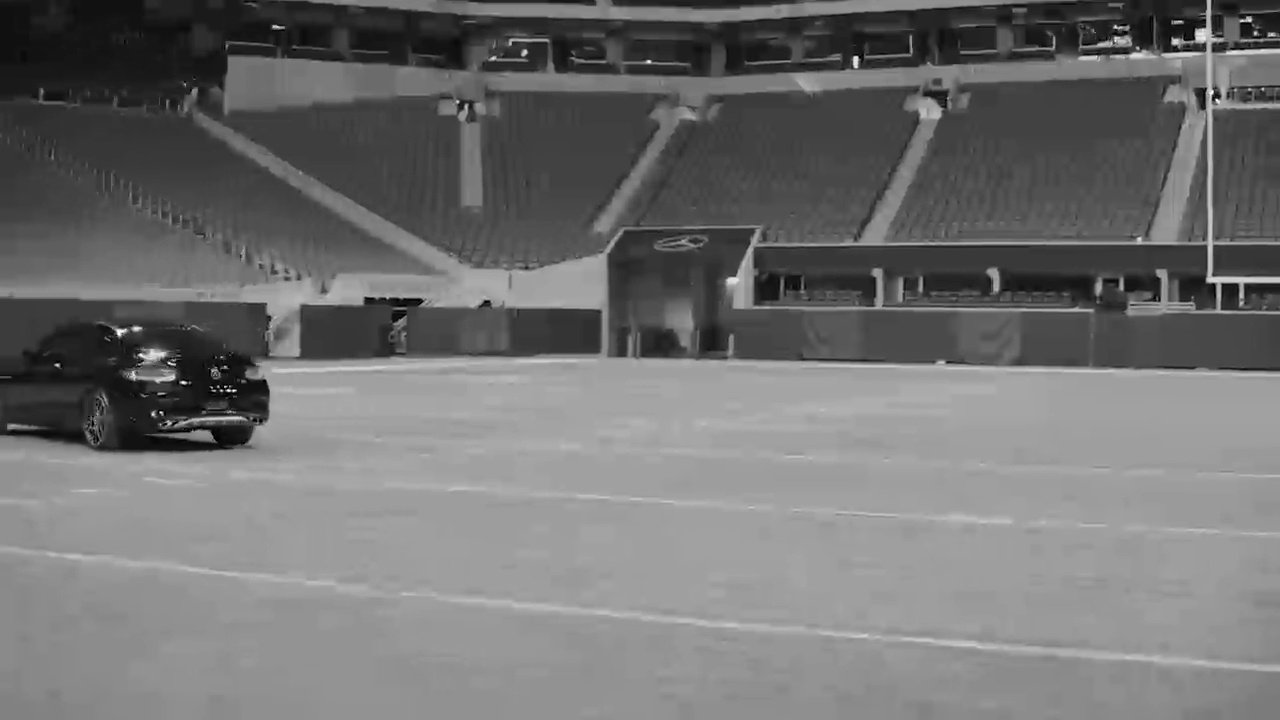car: (4, 315, 273, 454)
